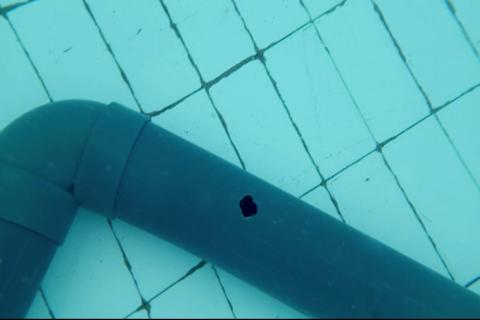kebocoran: (236, 192, 259, 220)
